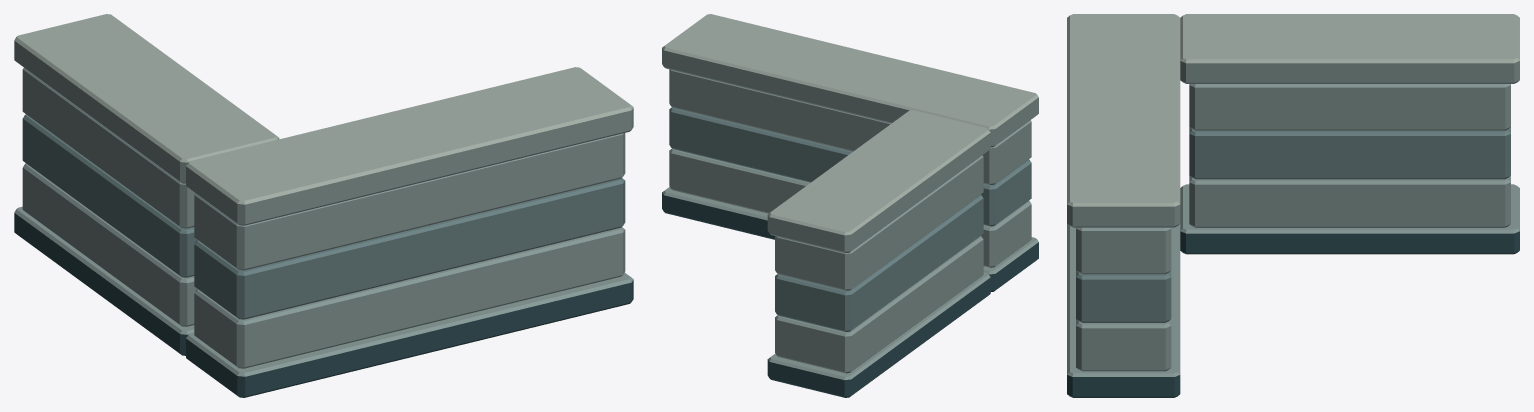
The model's file is wall-corner.glb.
3 renders of one model, left to right at view 1: azimuth 30°, elevation 25°; view 2: azimuth 150°, elevation 25°; view 3: azimuth 270°, elevation 25°, orthographic. The views are drawn at different scales.
Parts seen in each view (by area): view 1: wall-corner__body; view 2: wall-corner__body; view 3: wall-corner__body.
Part boxes in pixels (left/top/right/bottom): wall-corner__body: left=14, top=14, right=633, bottom=397; wall-corner__body: left=662, top=14, right=1038, bottom=397; wall-corner__body: left=1067, top=14, right=1519, bottom=397.
Size of the model in its own units: 2 by 0.95 by 2.
